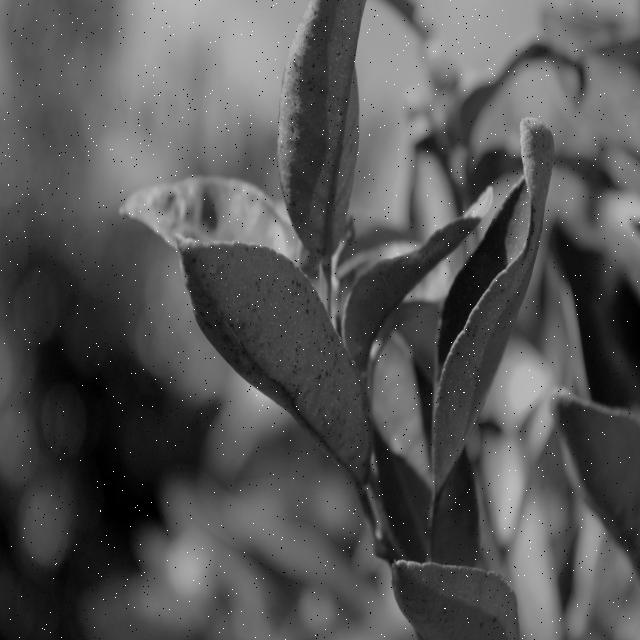blackspot: (185, 231, 368, 481), (263, 6, 362, 250)
